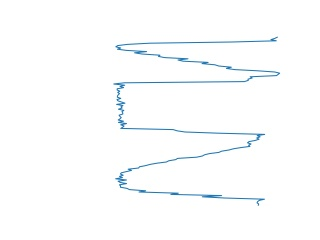distributaryChannelFill: (112, 73, 269, 142)
mouthBar: (113, 32, 283, 78)
underwaterDistributaryChannel: (114, 138, 268, 207)
